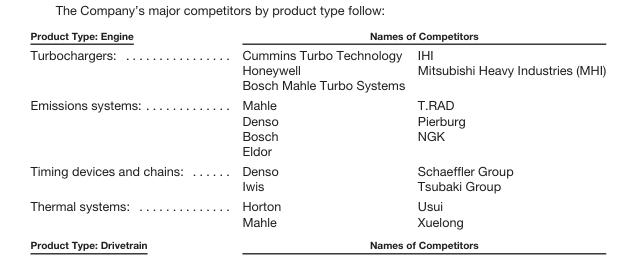table: (29, 28, 605, 228)
table column: (212, 28, 410, 228), (410, 28, 605, 228), (29, 28, 212, 228)
table column header: (29, 28, 605, 95)
table row: (29, 44, 605, 95), (29, 142, 605, 160), (29, 160, 605, 178), (29, 178, 605, 196), (29, 95, 605, 112), (29, 196, 605, 213), (29, 28, 605, 44), (29, 112, 605, 127), (29, 127, 605, 142), (29, 213, 605, 228)
table spanning cell: (29, 28, 212, 95), (29, 95, 212, 160), (29, 160, 212, 196), (212, 28, 605, 44), (29, 196, 212, 228)
